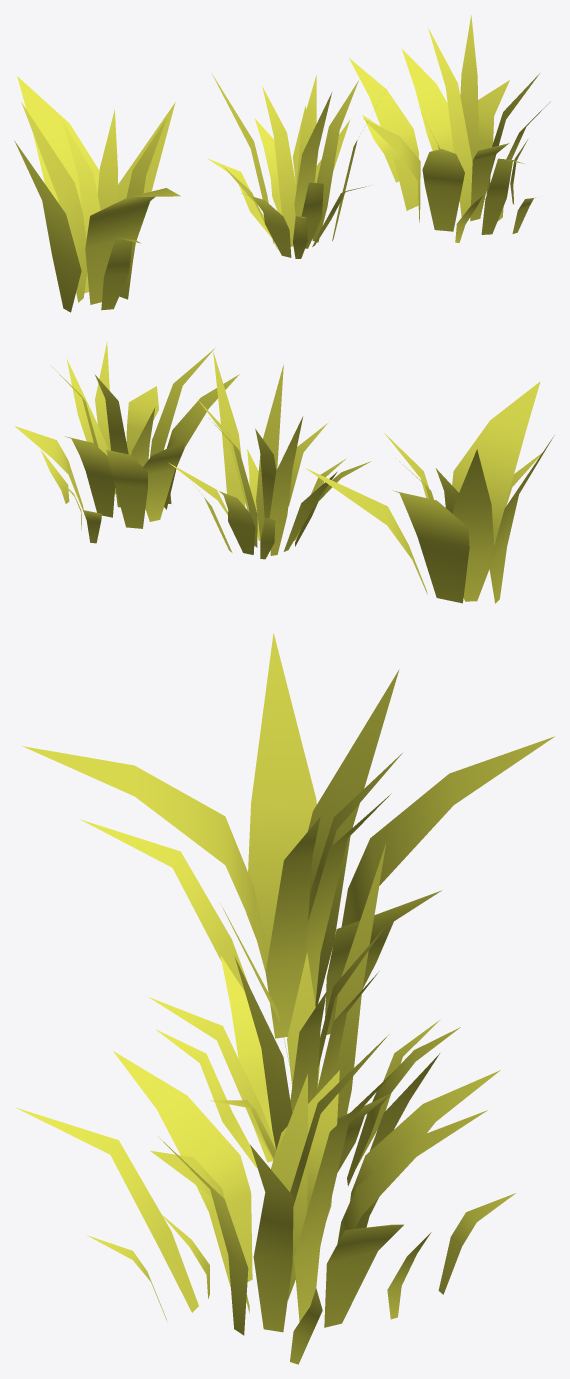
File: grass nhon.glb
The picture shows the model from 3 angles, top to bottom: view 1: azimuth 30°, elevation 25°; view 2: azimuth 150°, elevation 25°; view 3: azimuth 270°, elevation 25°; orthographic projection. The views are drawn at different scales.
Parts seen in each view (by area): view 1: co 1, co 3, co 2; view 2: co 1, co 3, co 2; view 3: co 1, co 3, co 2.
Part boxes in pixels (x1,y1,x2,y2): co 1: (14,76,180,312); co 3: (349,15,550,242); co 2: (207,74,369,258); co 1: (305,381,554,603); co 3: (15,341,239,543); co 2: (168,352,371,559); co 1: (22,633,554,1038); co 3: (15,1035,515,1364); co 2: (148,843,460,1186).
Size of the model in its own units: 0.3255 by 0.1128 by 0.1724.
